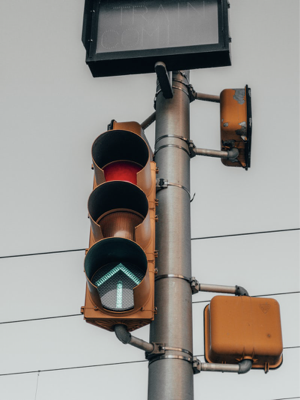trafficlight: (81, 119, 158, 336)
